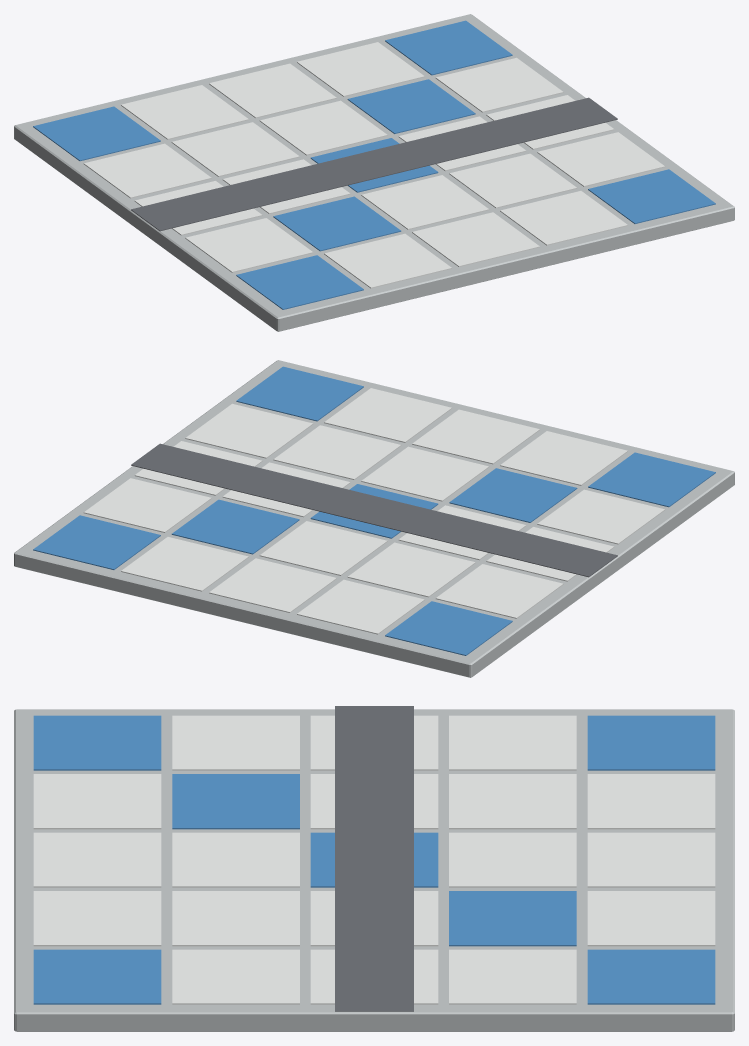
Rendered from public-swimming-baths-and-poolside-pool-tank-floor-til-3923f565__35236.glb.
3 views of the same model, one above another, from view 1: azimuth 30°, elevation 25°; view 2: azimuth 150°, elevation 25°; view 3: azimuth 270°, elevation 25° (orthographic). The views are drawn at different scales.
Visible parts, largest first — view 1: pool-tank-floor-tile-lane-line; view 2: pool-tank-floor-tile-lane-line; view 3: pool-tank-floor-tile-lane-line.
Boxes of the visible parts, x1,y1,x2,y2 form: pool-tank-floor-tile-lane-line: [14, 14, 734, 331]; pool-tank-floor-tile-lane-line: [14, 360, 734, 677]; pool-tank-floor-tile-lane-line: [14, 706, 734, 1031].
Size of the model in its own units: 2 by 0.067 by 2.
